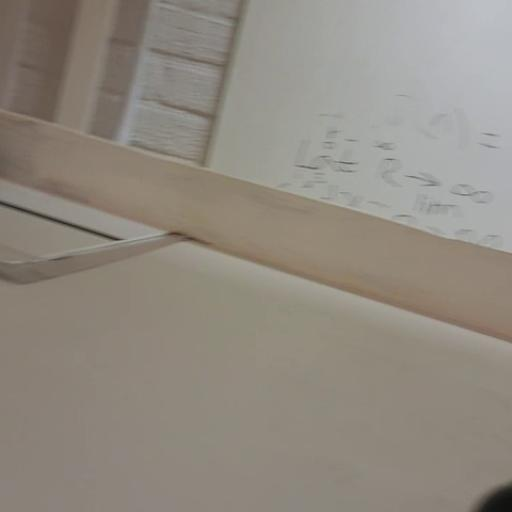dead: (476, 486, 512, 512)
